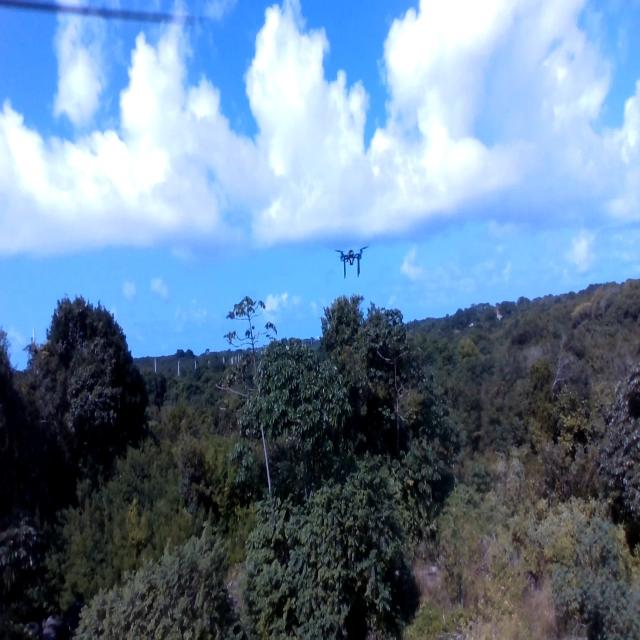-uav-: (330, 229, 372, 280)
